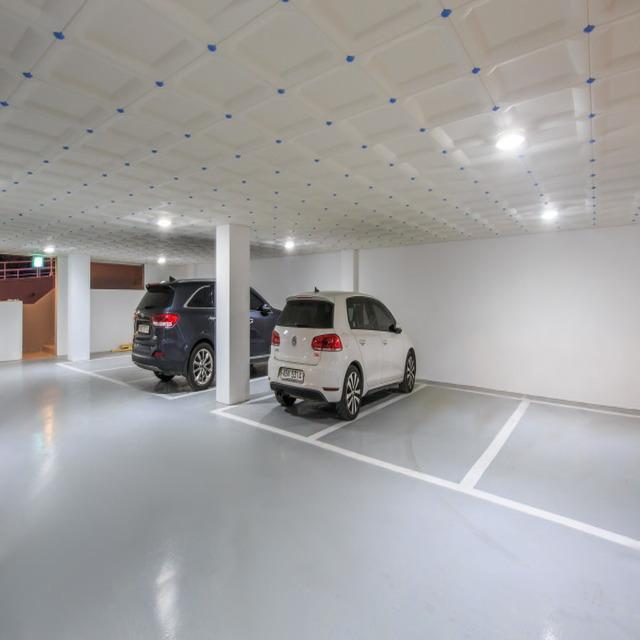Car: (272, 288, 421, 418)
Vacant: (456, 396, 640, 551), (301, 383, 530, 494)
